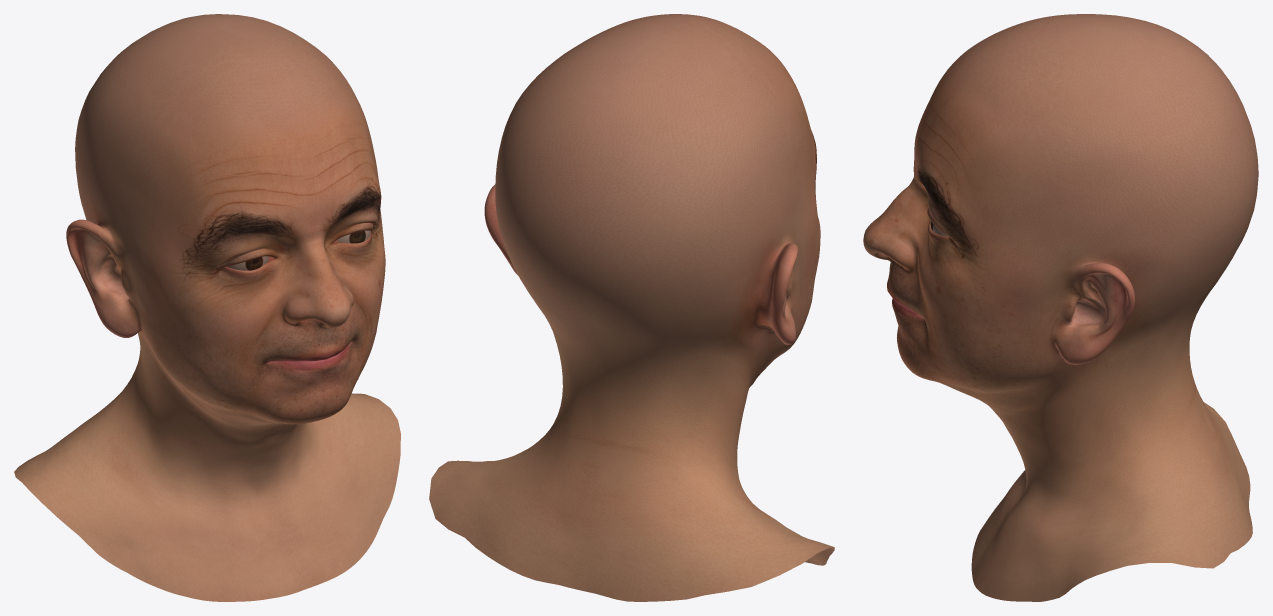
3 views of the same model, side by side, from view 1: azimuth 30°, elevation 25°; view 2: azimuth 150°, elevation 25°; view 3: azimuth 270°, elevation 25° (orthographic). The views are drawn at different scales.
Parts seen in each view (by area): view 1: Registered head; view 2: Registered head; view 3: Registered head.
Boxes of the visible parts, x1,y1,x2,y2 form: Registered head: [14, 14, 400, 601]; Registered head: [429, 14, 834, 601]; Registered head: [863, 14, 1258, 601].
Size of the model in its own units: 1.3 by 1.8 by 1.2.
Materials: 3 (3 with a texture image).
